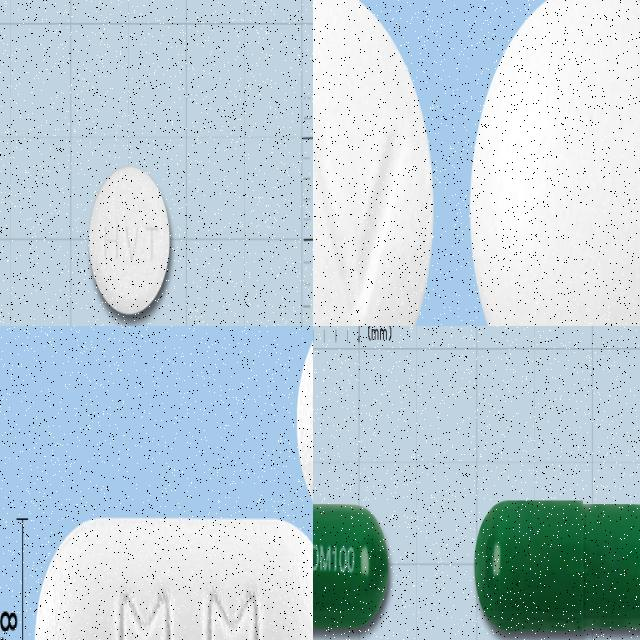Hepsevir: (88, 163, 170, 315)
Jeil Cravit: (469, 0, 640, 326), (313, 0, 435, 326)
Monodoxy-M Cap- Sinil: (474, 498, 640, 636), (313, 501, 389, 638)
Myungmoon Amoclan Tab: (34, 516, 313, 640)
